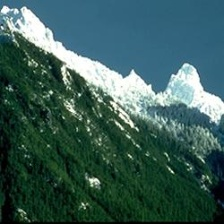neutral: (1, 2, 223, 221)
